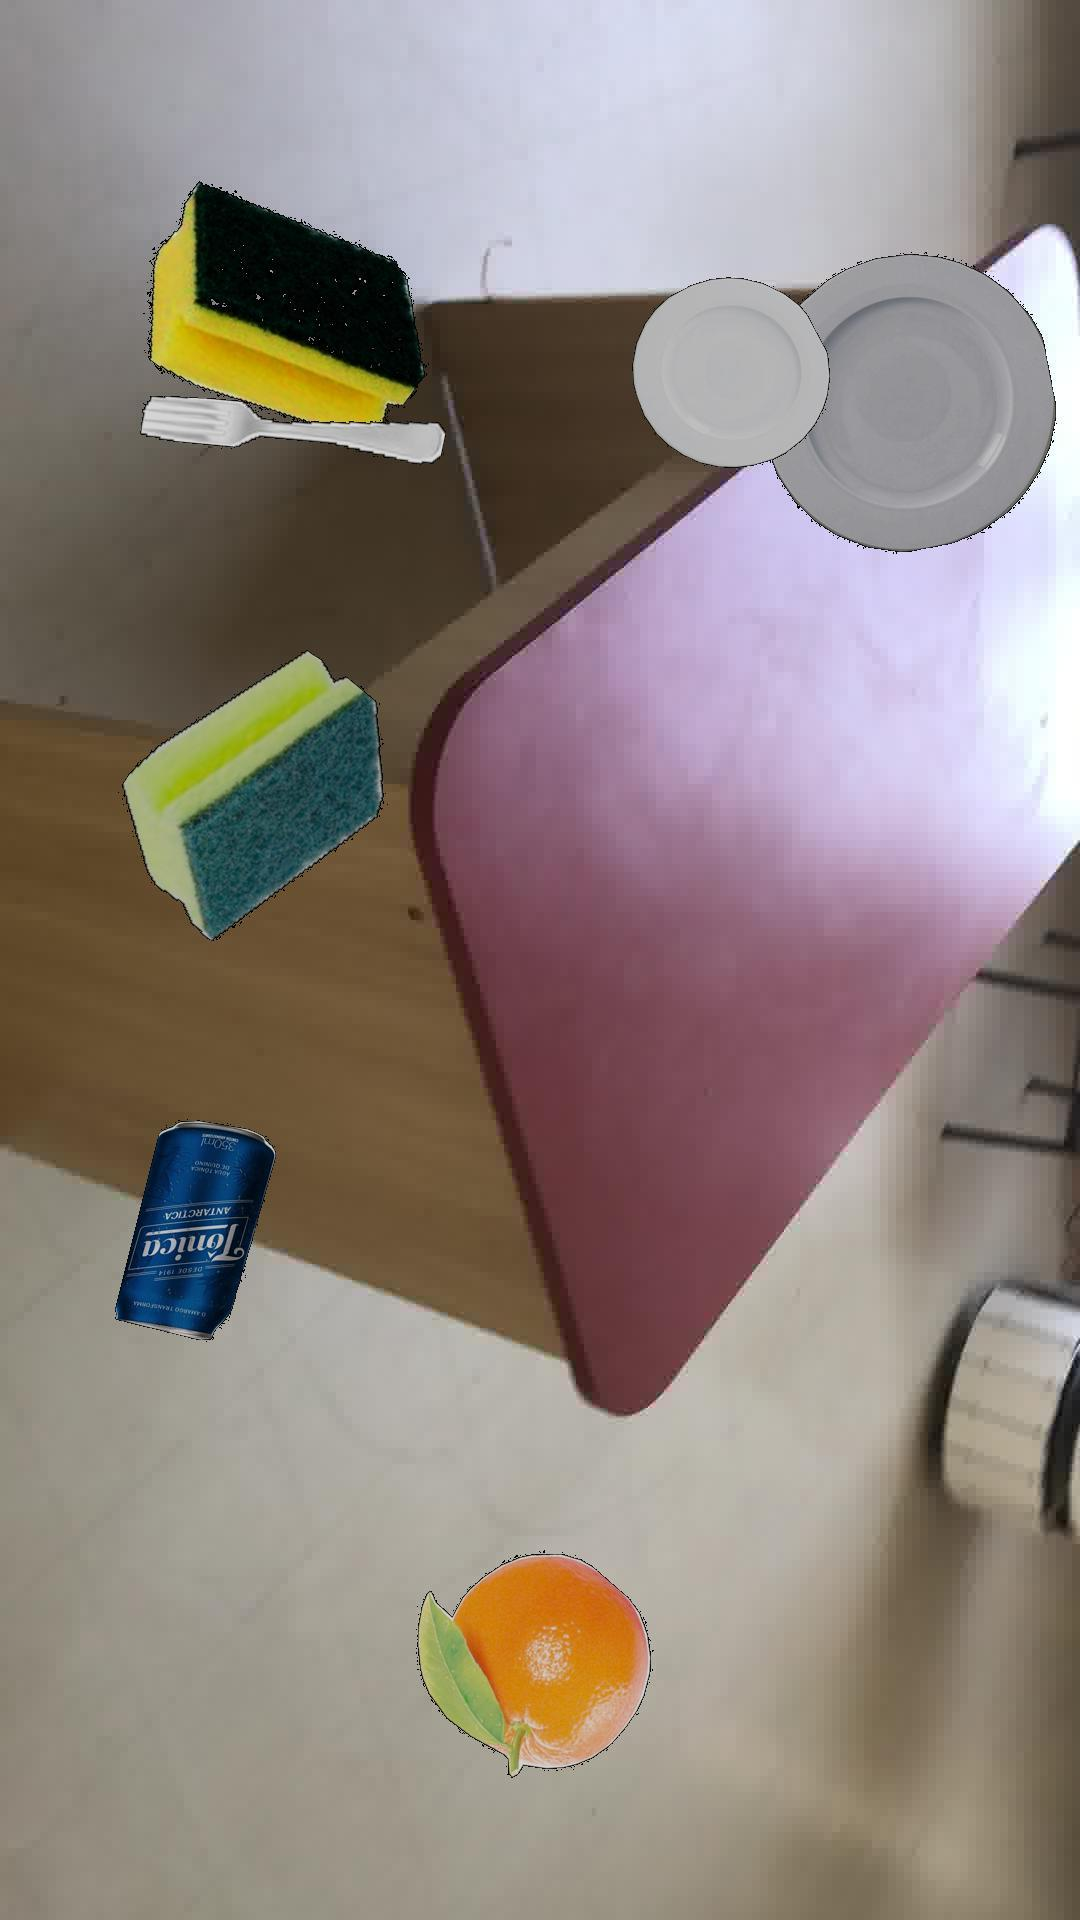fork: (138, 394, 444, 463)
orange: (415, 1552, 649, 1776)
plate: (770, 252, 1055, 553), (630, 276, 828, 467)
sponge: (120, 649, 382, 939), (146, 179, 423, 422)
tonic: (113, 1118, 274, 1338)
